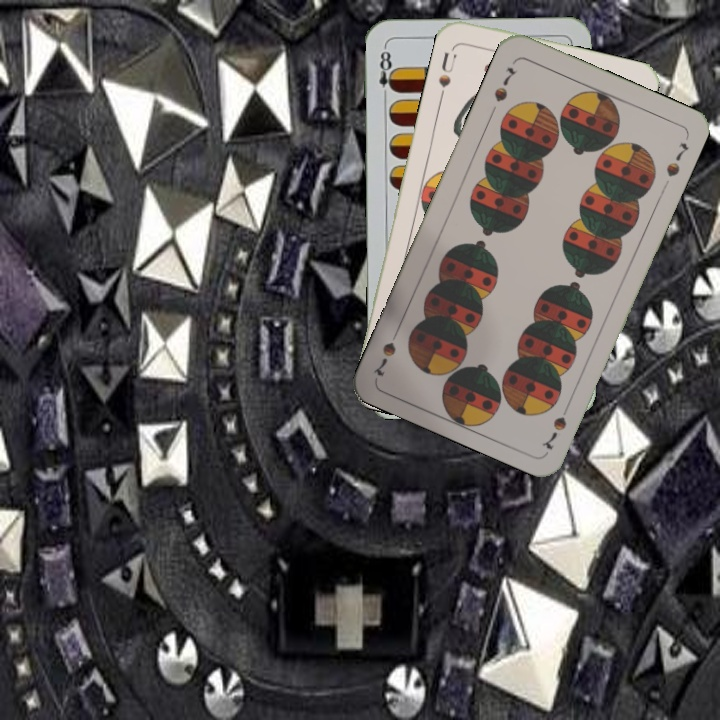E8: (375, 44, 398, 103)
S7: (538, 398, 573, 452), (490, 62, 519, 105)
SU: (434, 48, 459, 101)
